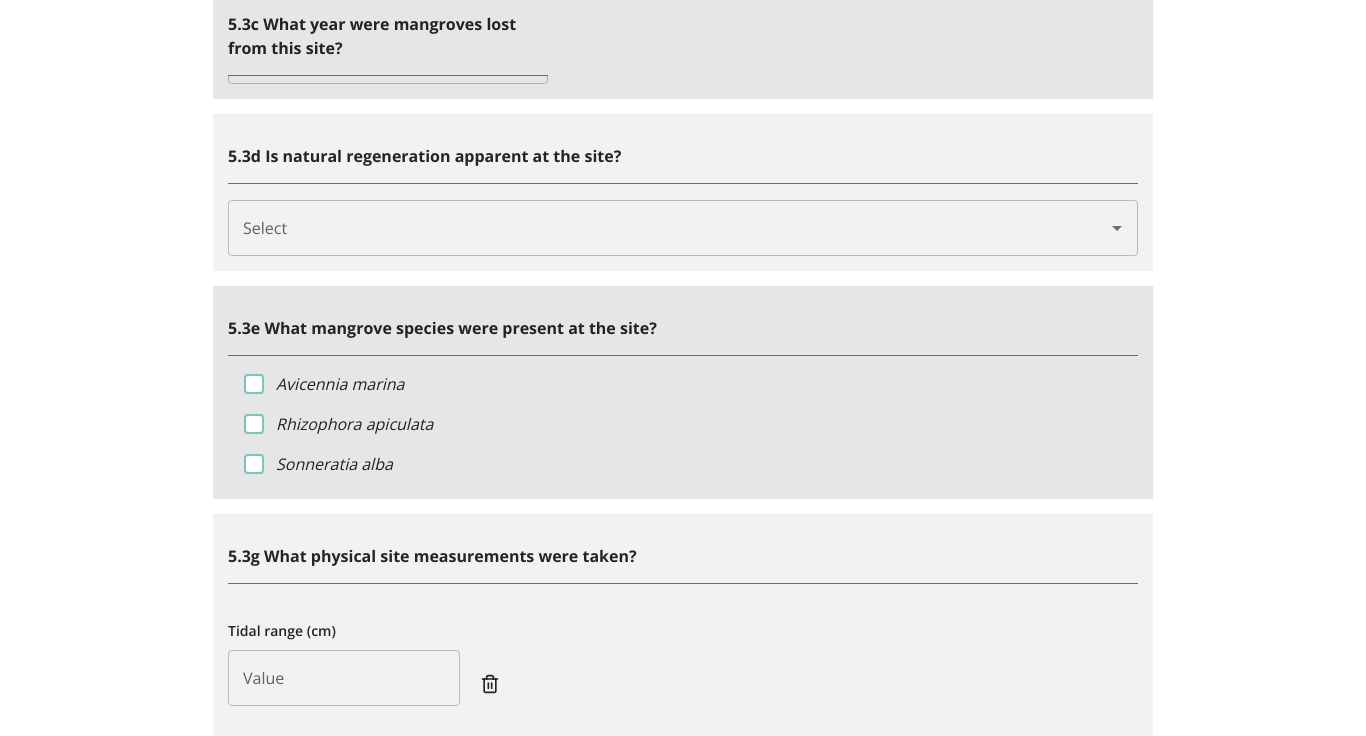
Test: section forms › PreRestorationAssessmentForm › lists the default measurements and the site countries’ species once assessed
The image size is (1366, 736).
(page scrolled)
Check: the field labelled "Tidal range (cm)" is shown, box [228, 650, 460, 706]
Click the checkbox named "Avicennia marina" next to "Avicennia marina". click: coordinates (254, 384)
box: [244, 374, 264, 394]
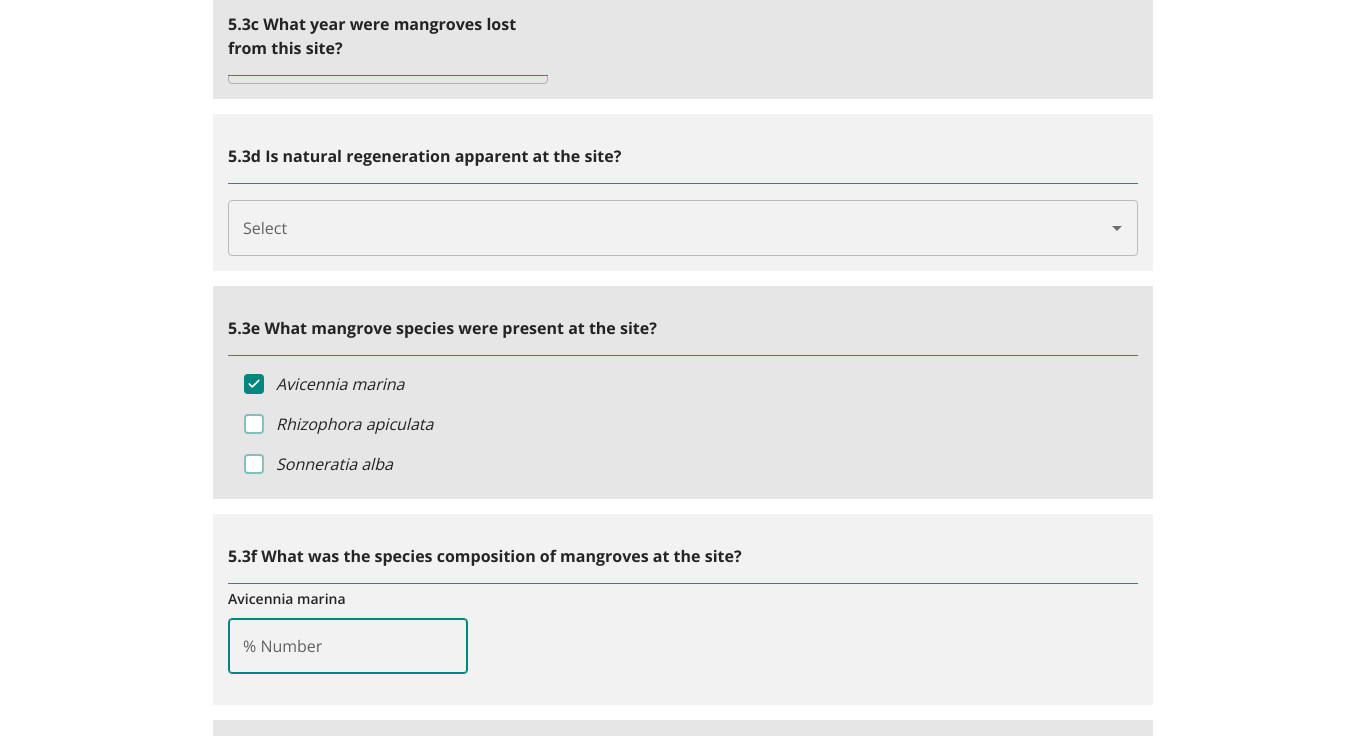
Check: the text "5.3f What was the species composition of mangroves at the site?" is shown, box [228, 529, 1138, 584]
Check: the field labelled "Avicennia marina" is shown, box [228, 618, 468, 674]
